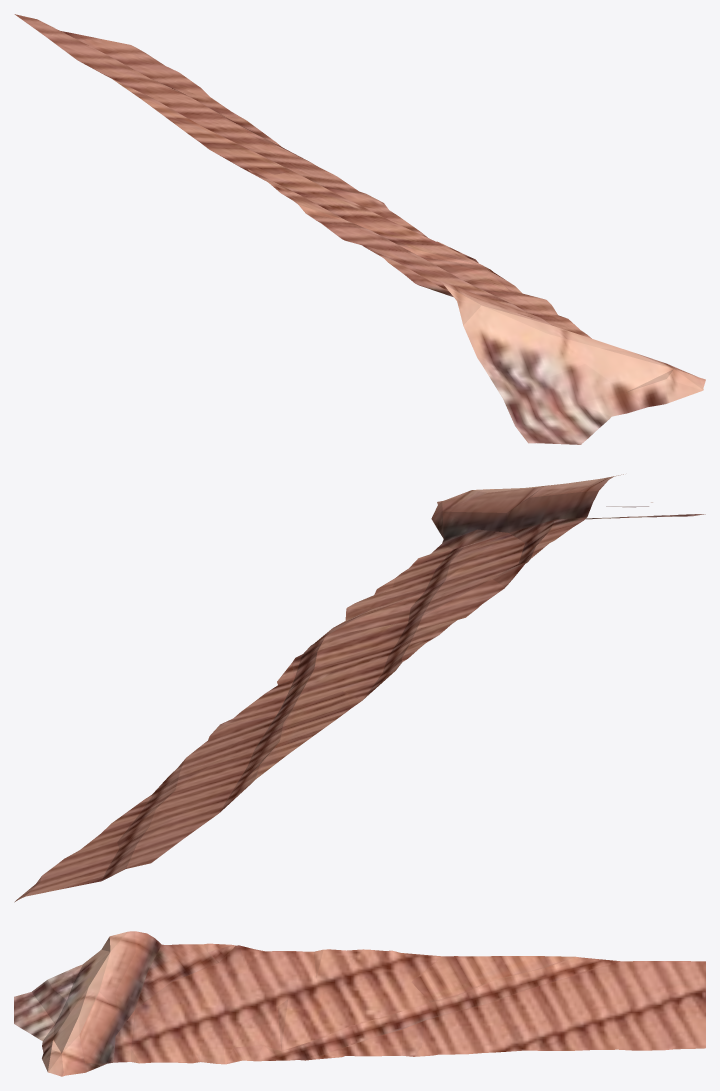
3 renders of one model, top to bottom at view 1: azimuth 30°, elevation 25°; view 2: azimuth 150°, elevation 25°; view 3: azimuth 270°, elevation 25°, orthographic. The views are drawn at different scales.
Size of the model in its own units: 0.8031 by 0.4033 by 3.35.
1 material, 1 textured.
